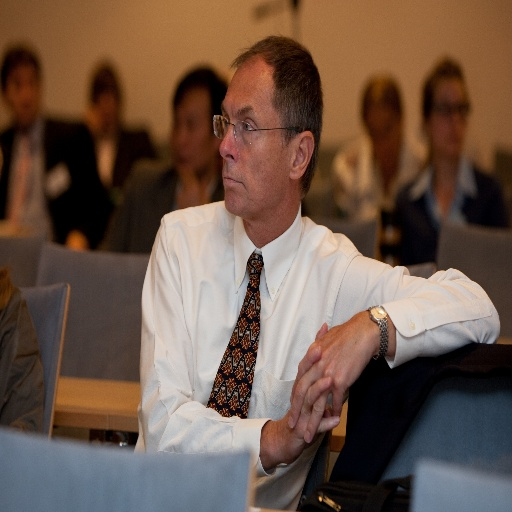hand: (271, 319, 340, 470)
